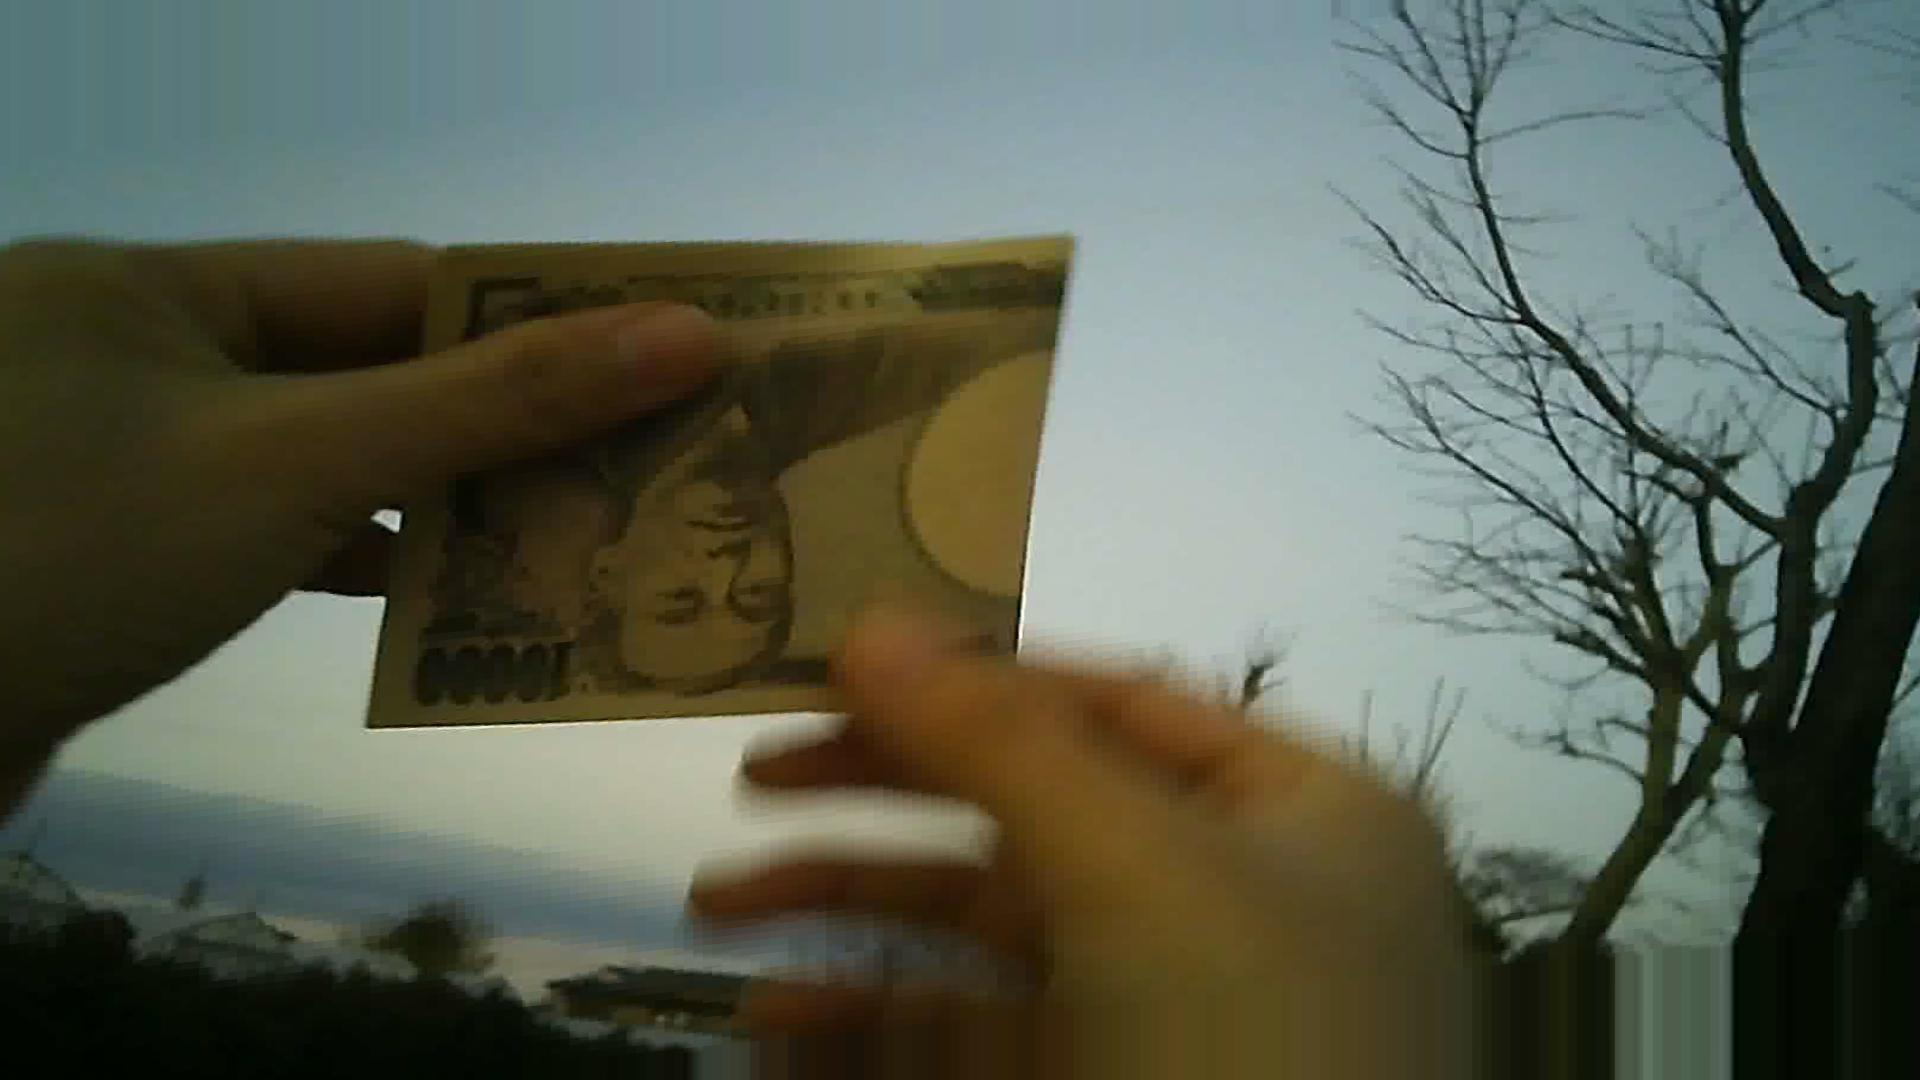10,000 Yen: (389, 222, 1065, 757)
